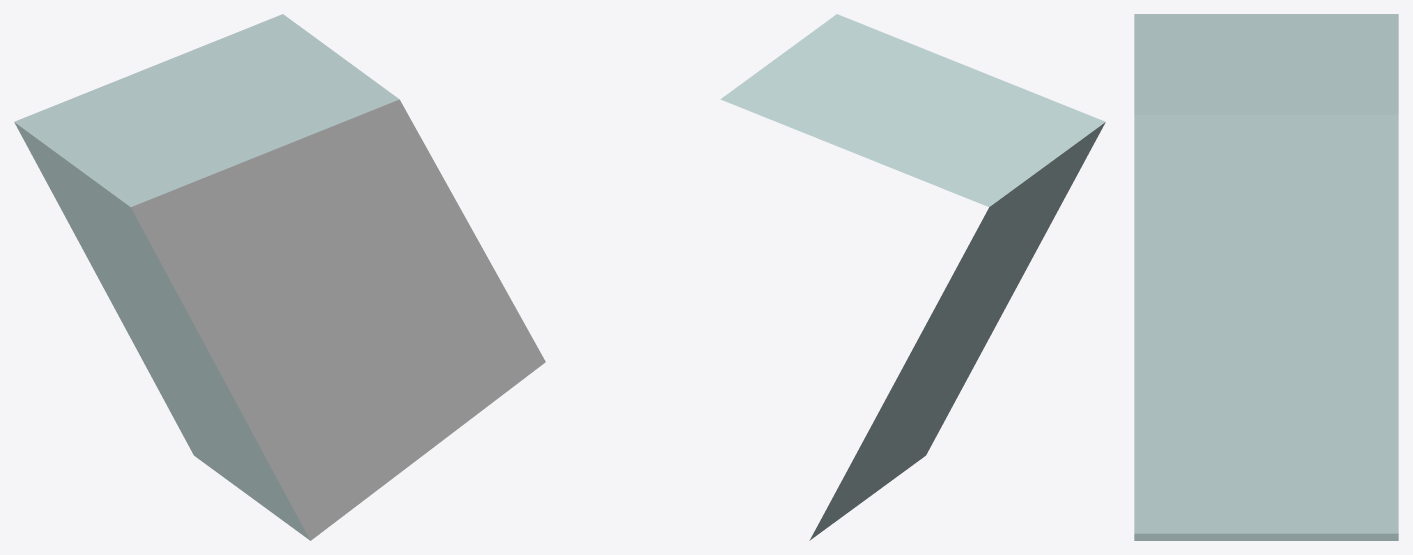
3 views of the same model, side by side, from view 1: azimuth 30°, elevation 25°; view 2: azimuth 150°, elevation 25°; view 3: azimuth 270°, elevation 25° (orthographic). The views are drawn at different scales.
Visible parts, largest first — view 1: 0_1_1_3_1_2_3_2_3; view 2: 0_1_1_3_1_2_3_2_3; view 3: 0_1_1_3_1_2_3_2_3.
Part boxes in pixels (x1,y1,x2,y2): 0_1_1_3_1_2_3_2_3: (14, 14, 545, 540); 0_1_1_3_1_2_3_2_3: (720, 14, 1105, 540); 0_1_1_3_1_2_3_2_3: (1134, 14, 1398, 540).
Bounding box in the file's own units: 6.16 × 5.95 × 3.
